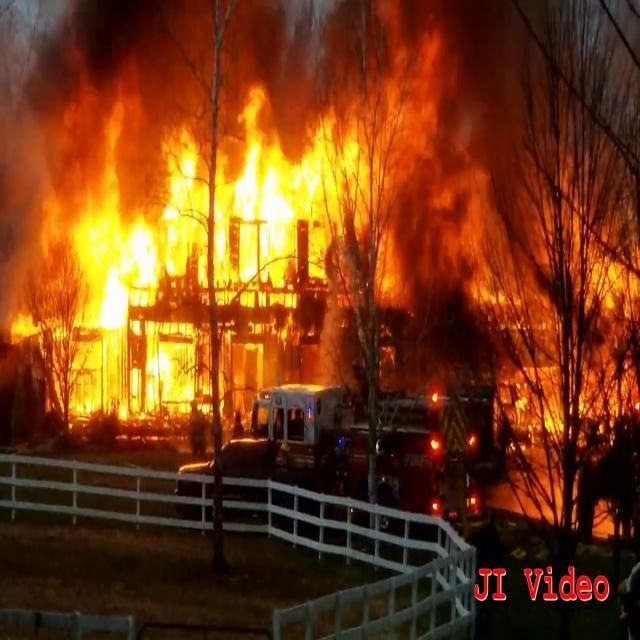Fire: (338, 34, 640, 474), (8, 78, 374, 440)
